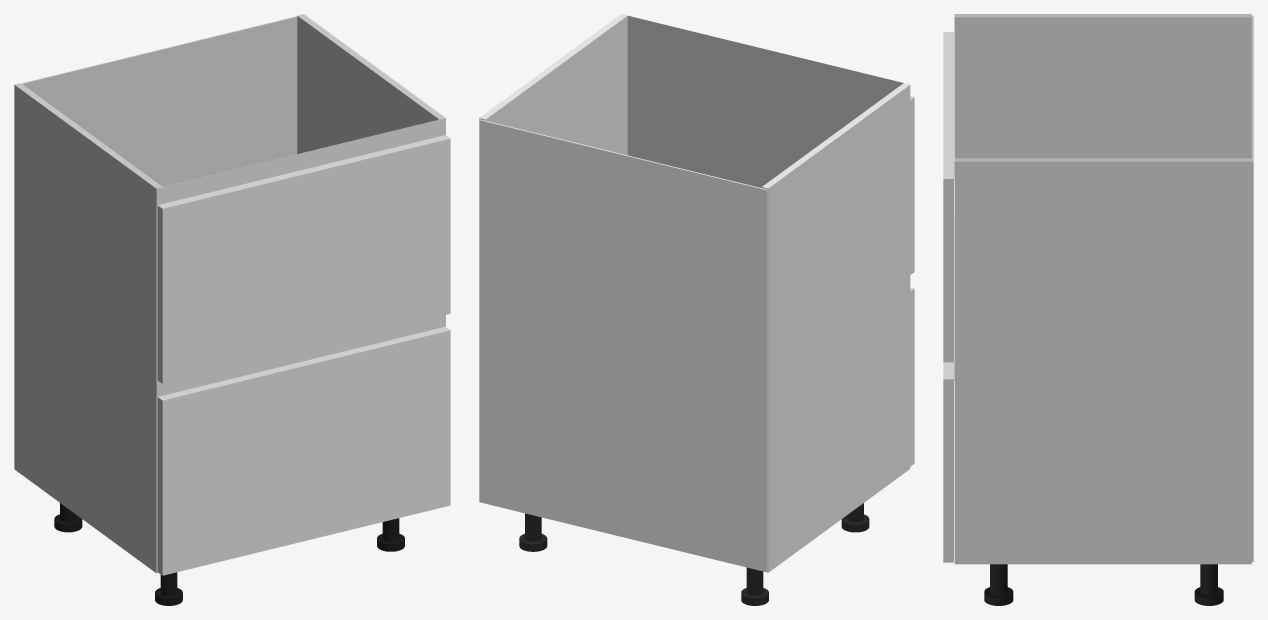
File: 1003-HOB-60-grm.glb
3 renders of one model, left to right at view 1: azimuth 30°, elevation 25°; view 2: azimuth 150°, elevation 25°; view 3: azimuth 270°, elevation 25°, orthographic. The views are drawn at different scales.
Visible parts, largest first — view 1: door, carcass, handle, plinth; view 2: carcass, door, handle, plinth; view 3: carcass, door, plinth.
Part boxes in pixels (box(x1,y1,x2,y2)): door: box(157, 135, 450, 575); carcass: box(14, 14, 445, 573); handle: box(156, 118, 445, 398); plinth: box(54, 503, 404, 605); carcass: box(479, 14, 910, 572); door: box(627, 33, 914, 466); handle: box(621, 14, 908, 96); plinth: box(519, 503, 869, 605); carcass: box(954, 14, 1253, 564); door: box(943, 32, 953, 562); plinth: box(984, 564, 1223, 605).
Size of the model in its own units: 0.6 by 0.862 by 0.532.
4 materials, 1 textured.
